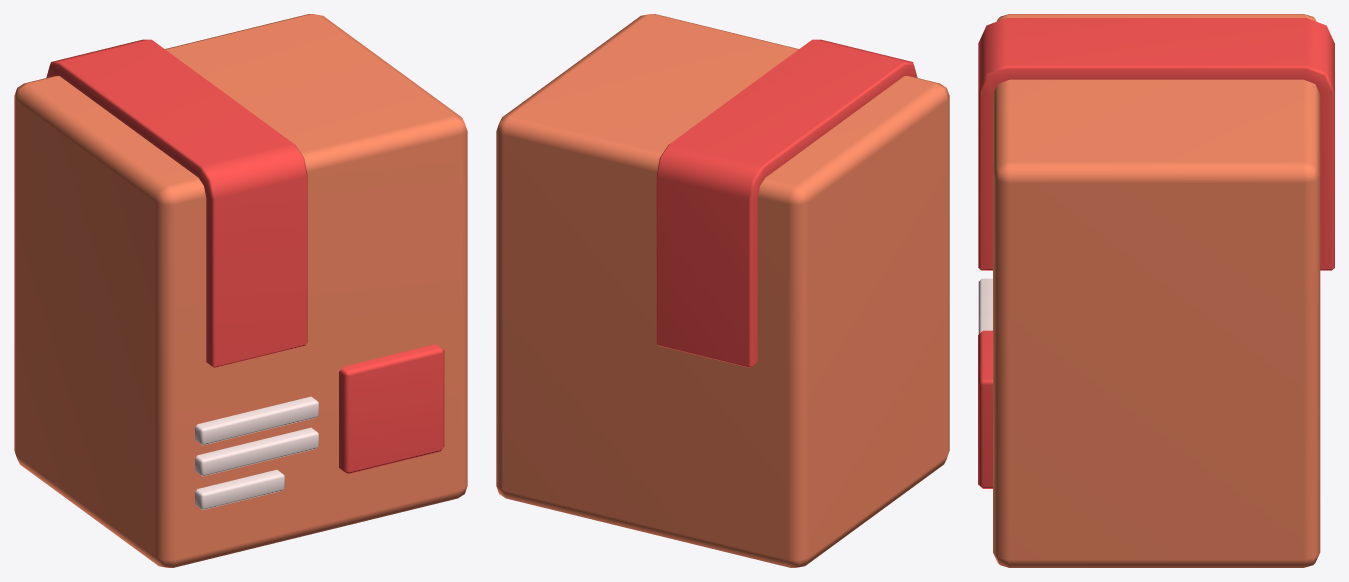
File: Public_6_Box_12.glb
The picture shows the model from 3 angles, left to right: view 1: azimuth 30°, elevation 25°; view 2: azimuth 150°, elevation 25°; view 3: azimuth 270°, elevation 25°; orthographic projection. The views are drawn at different scales.
Visible parts, largest first — view 1: Public_6_Box_12; view 2: Public_6_Box_12; view 3: Public_6_Box_12.
Boxes of the visible parts, left/top/right/bottom form: Public_6_Box_12: left=14, top=14, right=467, bottom=567; Public_6_Box_12: left=496, top=14, right=949, bottom=567; Public_6_Box_12: left=978, top=14, right=1334, bottom=567.
Bounding box in the file's own units: 1.88 × 2.28 × 1.76.
Materials: 1 (1 with a texture image).
